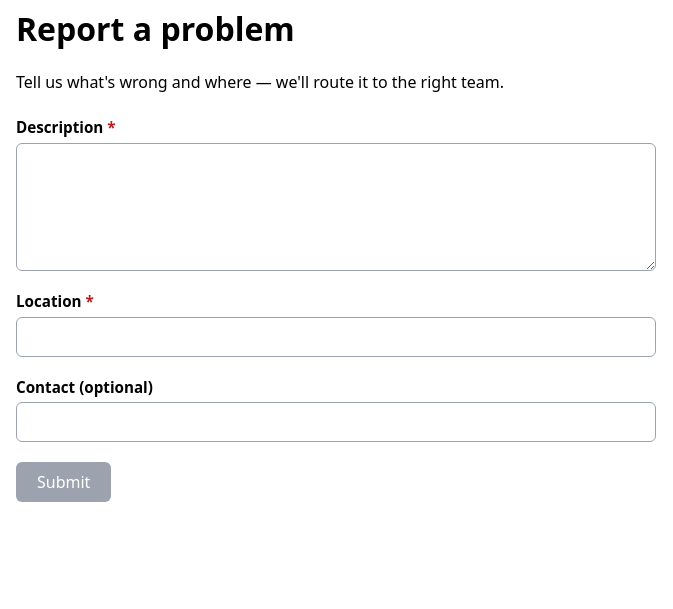
SubmitPage › shows a clear message with retry time on a 429 rate-limit response
Type "There is a broken water pipe flooding the street." into the text box labelled "Description *". click: (336, 207)
box: [16,143,656,271]
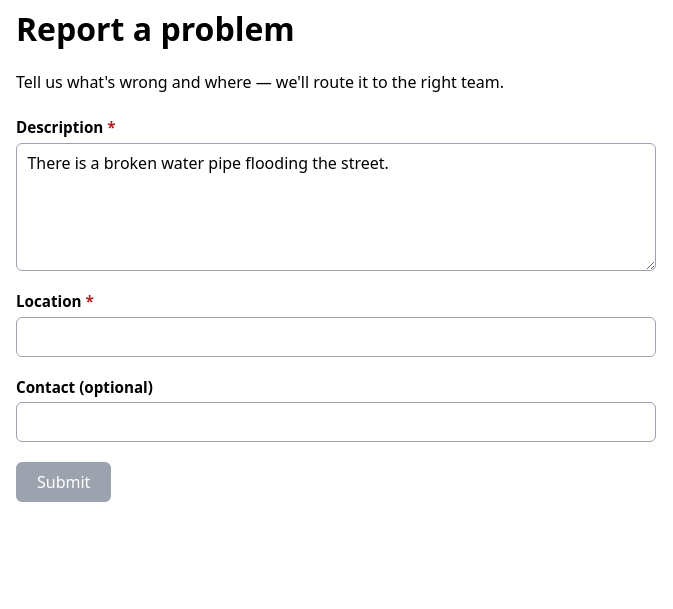
Type "Block 4, Main Street" into the field labelled "Location *". click: (336, 337)
box: [16,317,656,357]
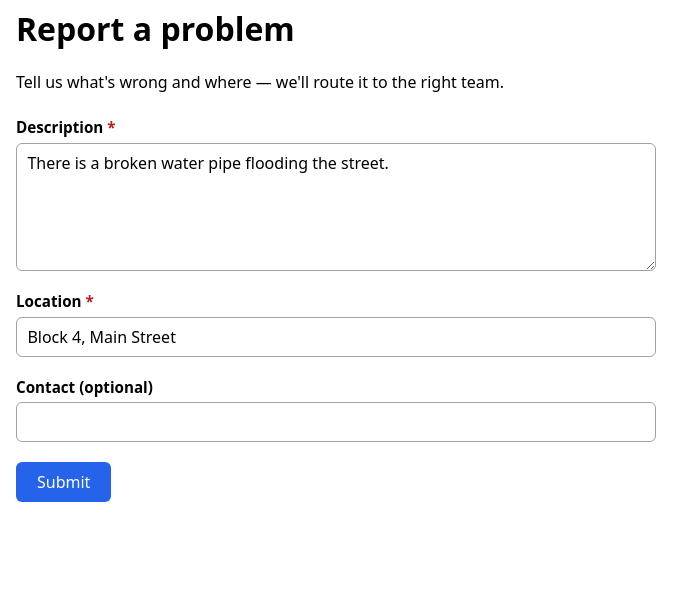
Click the button "Submit". click: (64, 482)
box: [16,462,111,502]
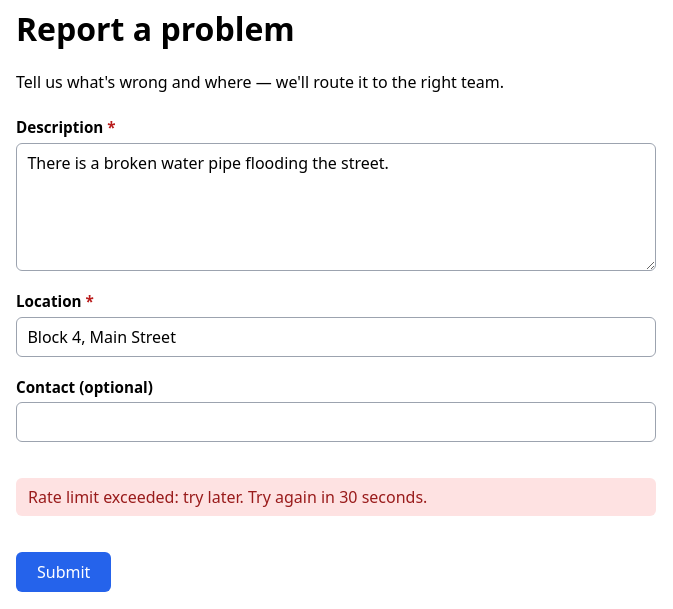
Check: the text "Rate limit exceeded: try later. Try again in 30 seconds." is shown, box [16,478,656,516]
